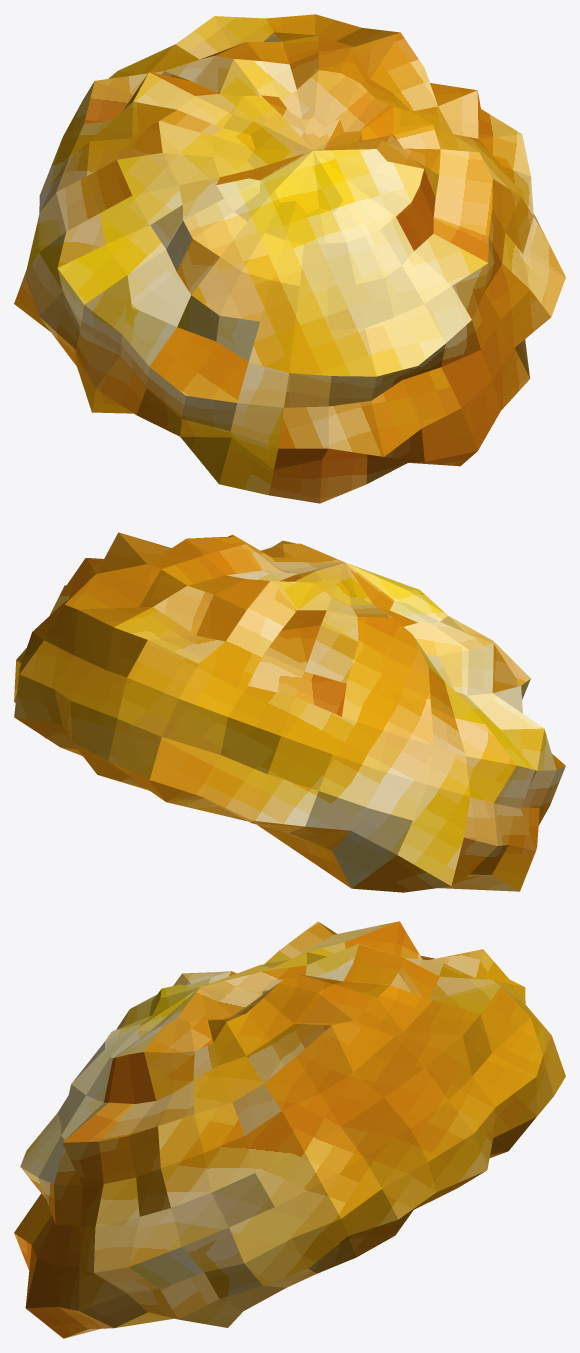
Rendered from AL_Cocada_Static.fbx.
3 renders of one model, top to bottom at view 1: azimuth 30°, elevation 25°; view 2: azimuth 150°, elevation 25°; view 3: azimuth 270°, elevation 25°, orthographic. The views are drawn at different scales.
Parts seen in each view (by area): view 1: Sphere; view 2: Sphere; view 3: Sphere.
Boxes of the visible parts, bbox=[...] form: Sphere: bbox=[14, 14, 565, 503]; Sphere: bbox=[14, 532, 565, 892]; Sphere: bbox=[14, 921, 565, 1338].
Bounding box in the file's own units: 0.1432 × 0.1035 × 0.1429.
